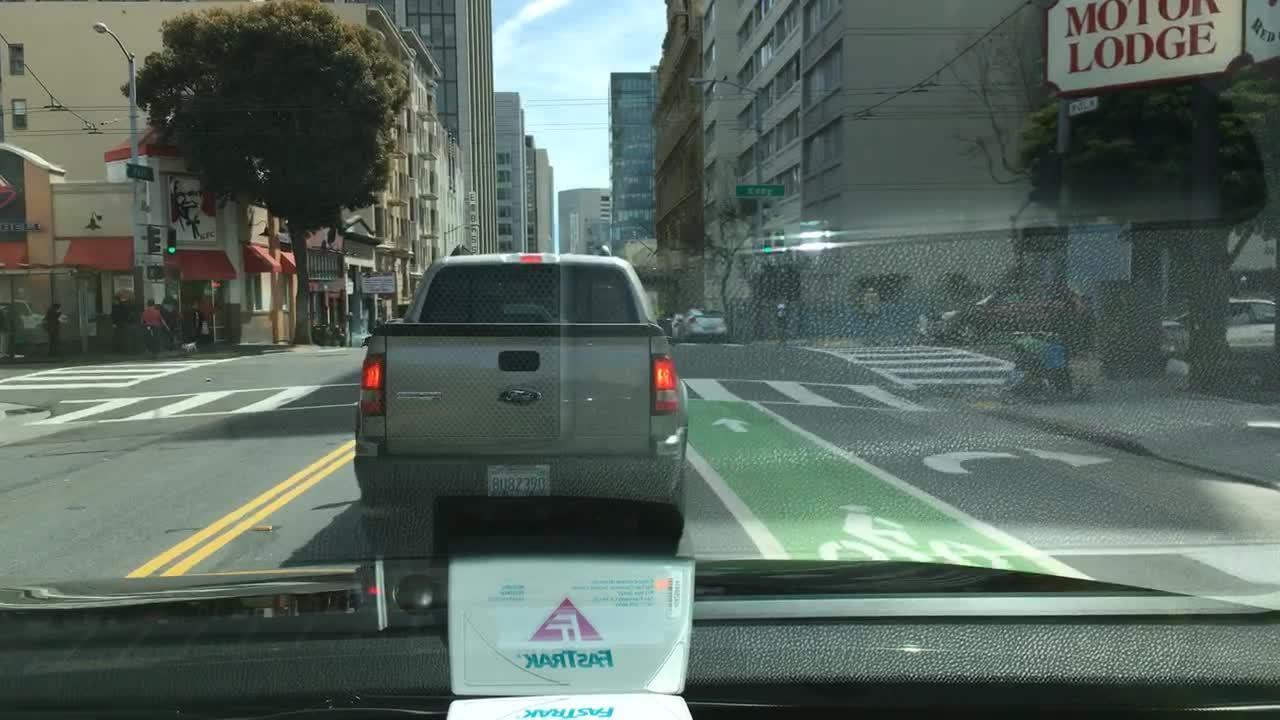ford: (498, 384, 544, 410)
